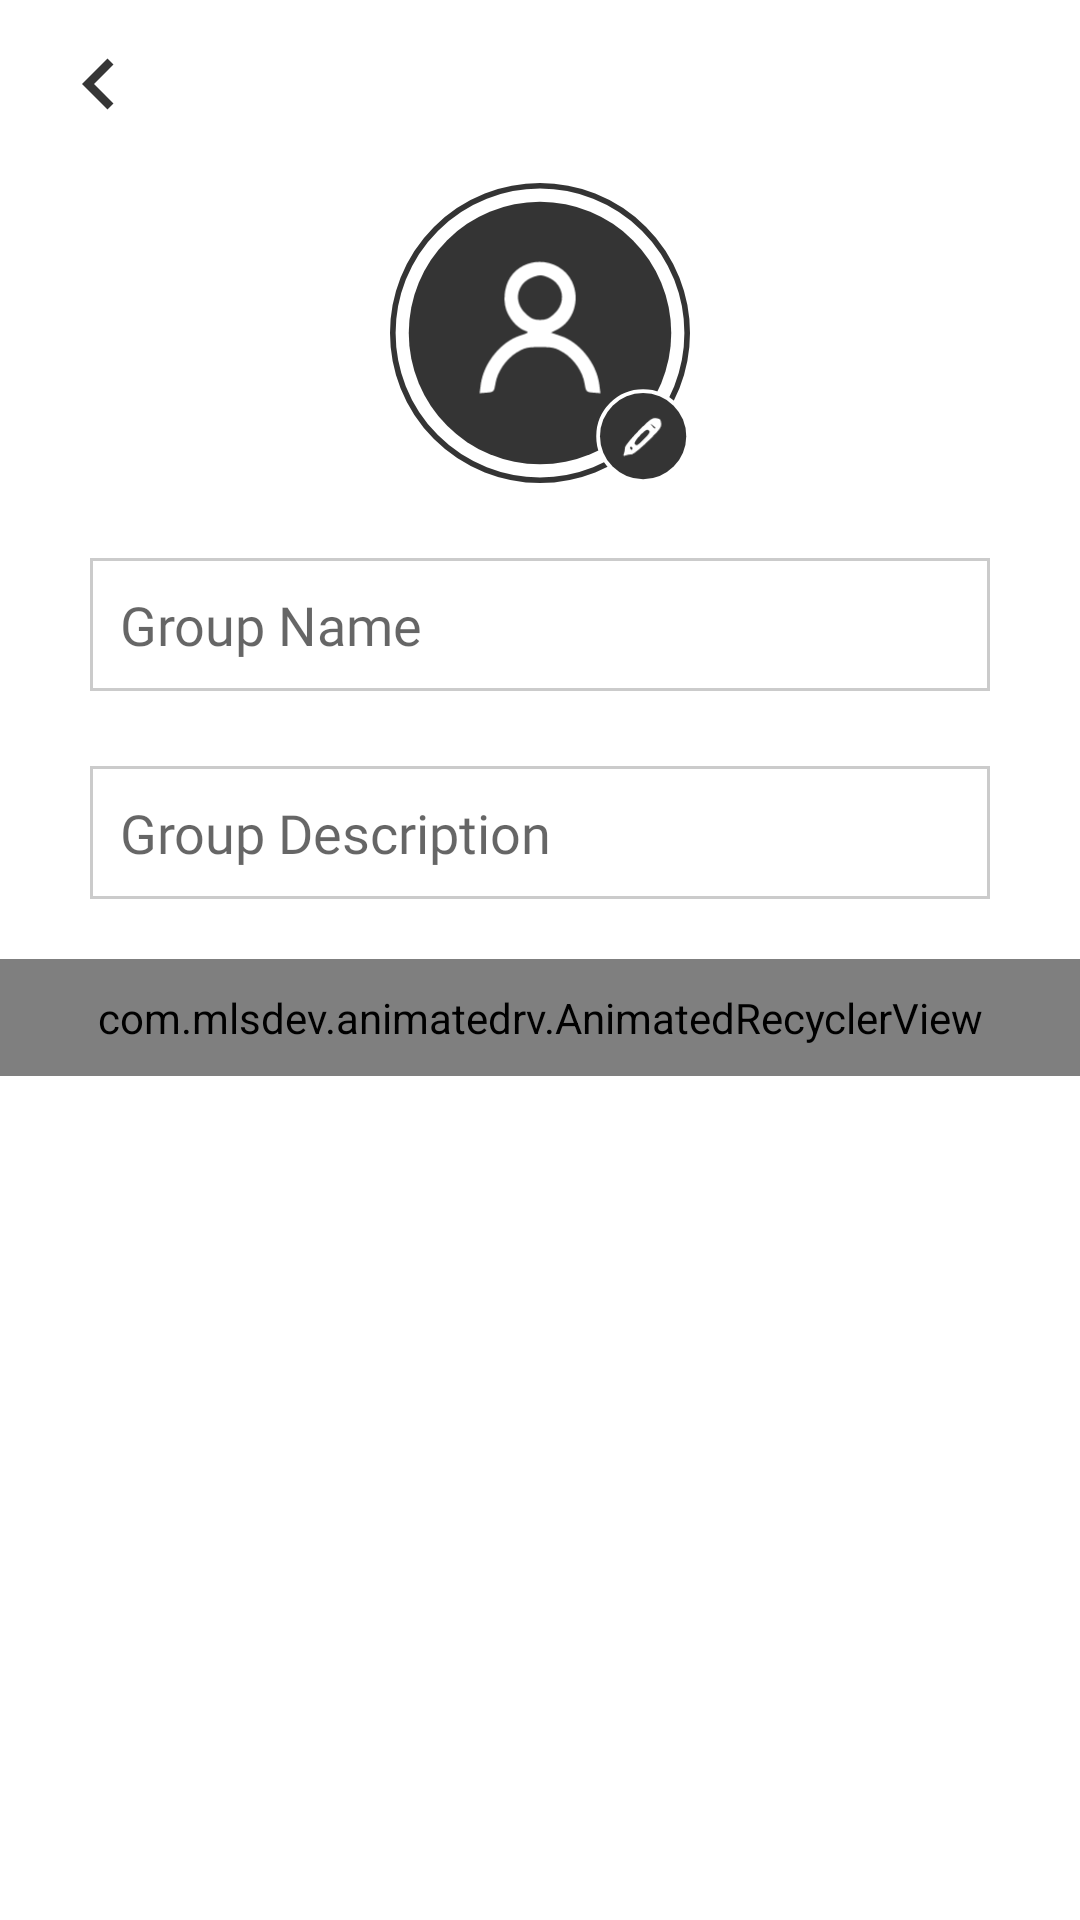

Named icons in this screenshot (1080*1920) and their centers, point (x, y):
chevron left: point (98, 84)
group capture: point (540, 333)
